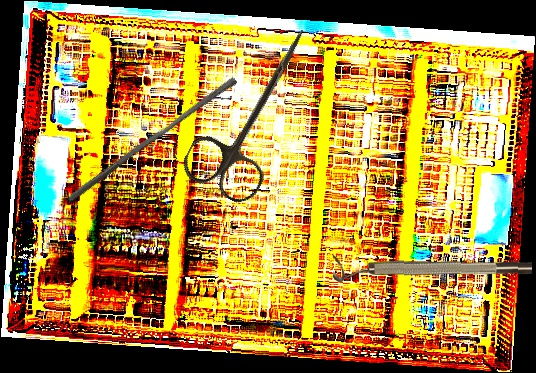Fixation Ring: (332, 255, 533, 286)
Iris Scissors: (177, 8, 335, 210)
Pusher: (65, 70, 239, 210)
